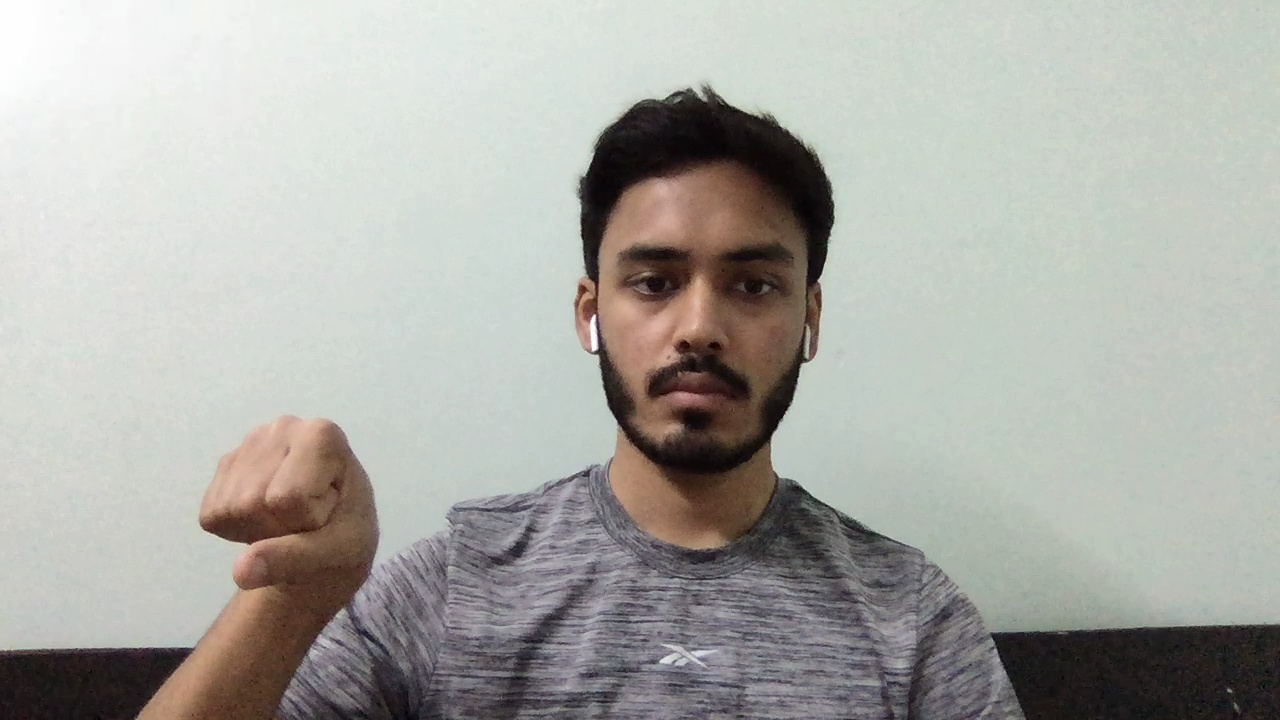Yes: (185, 404, 401, 614)
